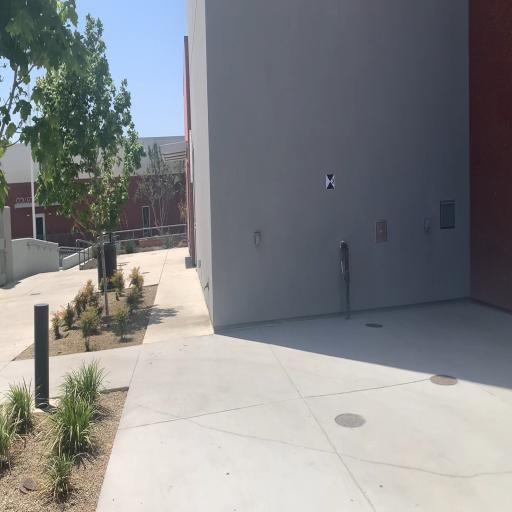target3: (326, 173, 335, 191)
